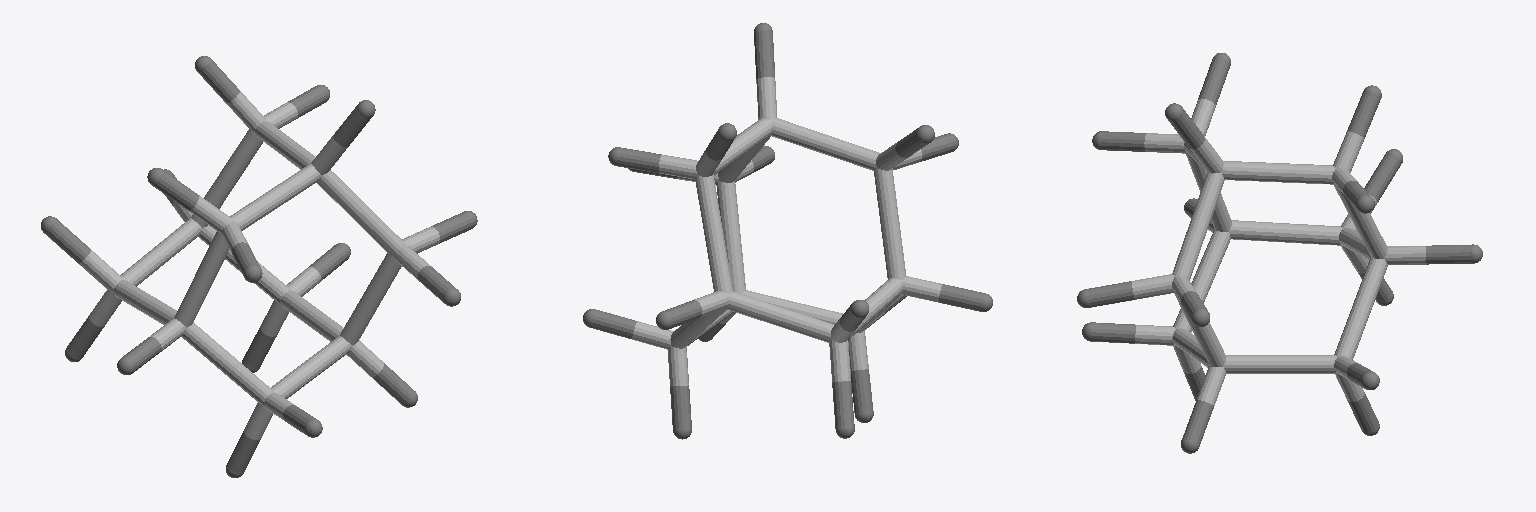
Rendered from molecule_3d_model.obj.
3 views of the same model, side by side, from view 1: azimuth 30°, elevation 25°; view 2: azimuth 150°, elevation 25°; view 3: azimuth 270°, elevation 25° (orthographic).
Parts seen in each view (by area): view 1: Bond_32614, Bond_32514, Bond_31614, Bond_29714, Bond_29814, Bond_30514, Bond_32814, Bond_32714, Bond_29314, Bond_29414, Bond_31014, Bond_30614 (+28 smaller); view 2: Bond_31614, Bond_31514, Bond_32814, Bond_31014, Bond_32714, Bond_30614, Bond_30514, Bond_30914, Bond_29414, Bond_31414, Bond_33014, Bond_28814 (+18 smaller); view 3: Bond_32014, Bond_31914, Bond_30314, Bond_30414, Bond_28314, Bond_32614, Bond_28414, Bond_32514, Bond_29814, Bond_28514, Bond_28614, Bond_33214 (+19 smaller).
Boxes of the visible parts, box(x1,y1,x2,y2) form: Bond_32614: box(353, 205, 404, 255); Bond_32514: box(317, 170, 365, 217); Bond_31614: box(221, 129, 262, 181); Bond_29714: box(221, 356, 272, 404); Bond_29814: box(181, 322, 231, 369); Bond_30514: box(174, 272, 213, 327); Bond_32814: box(230, 191, 279, 230); Bond_32714: box(269, 164, 320, 206); Bond_29314: box(340, 292, 380, 345); Bond_29414: box(365, 253, 401, 302); Bond_31014: box(154, 218, 202, 261); Bond_30614: box(197, 231, 228, 281); Bond_31614: box(695, 174, 722, 235); Bond_31514: box(705, 233, 732, 293); Bond_32814: box(822, 135, 880, 170); Bond_31014: box(726, 291, 783, 325); Bond_32714: box(770, 118, 827, 152); Bond_30614: box(874, 168, 899, 224); Bond_30514: box(881, 223, 905, 279); Bond_30914: box(779, 308, 833, 342); Bond_29414: box(716, 181, 740, 237); Bond_31414: box(832, 381, 854, 428); Bond_33014: box(754, 31, 774, 78); Bond_28814: box(670, 385, 691, 429); Bond_32014: box(1221, 161, 1278, 181); Bond_31914: box(1278, 163, 1335, 184); Bond_30314: box(1229, 220, 1285, 241); Bond_30414: box(1285, 223, 1342, 245); Bond_28314: box(1280, 355, 1336, 373); Bond_32614: box(1172, 223, 1207, 280); Bond_28414: box(1223, 355, 1279, 373); Bond_32514: box(1190, 172, 1224, 228); Bond_29814: box(1193, 229, 1230, 284); Bond_28514: box(1334, 306, 1369, 359); Bond_28614: box(1352, 257, 1387, 312); Bond_33214: box(1086, 281, 1134, 307).
Bounding box in the file's own units: 5.19 × 4.93 × 5.05.